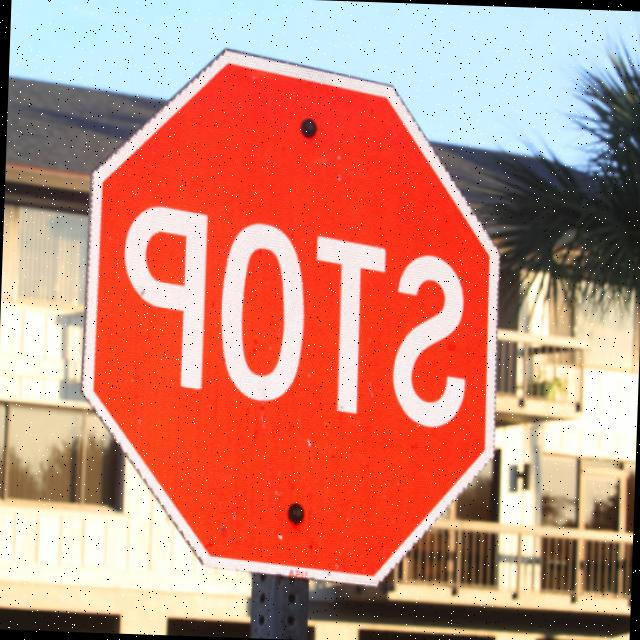stop: (73, 40, 516, 591)
